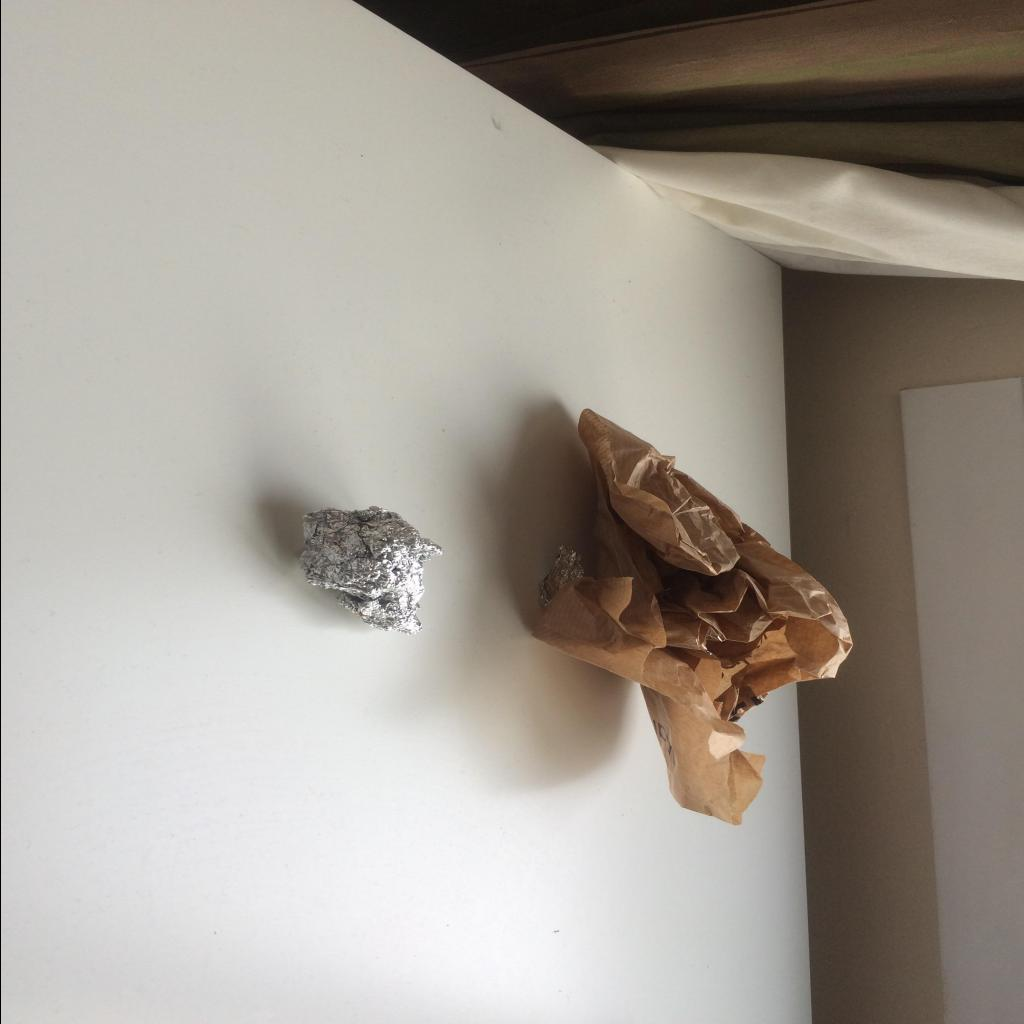Aluminium foil: (298, 506, 444, 636), (538, 545, 583, 612)
Paper bag: (530, 409, 852, 825)
